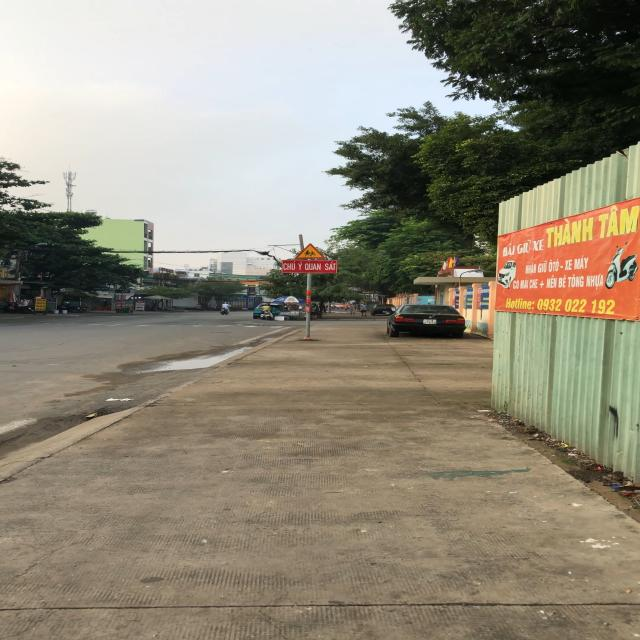Bien bao tre em: (294, 242, 327, 260)
